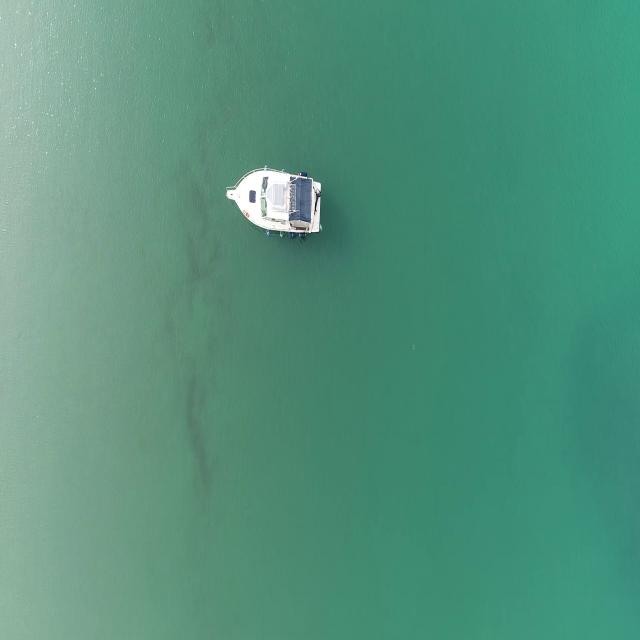boat: (225, 166, 324, 243)
